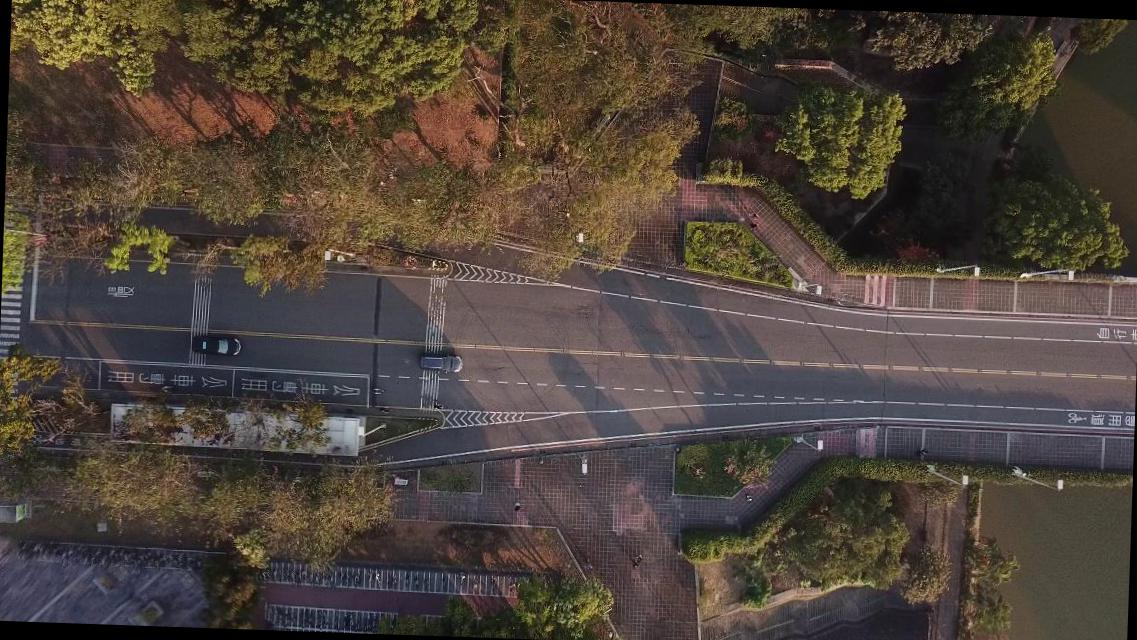vehicle: (190, 334, 242, 356), (418, 352, 462, 373)
